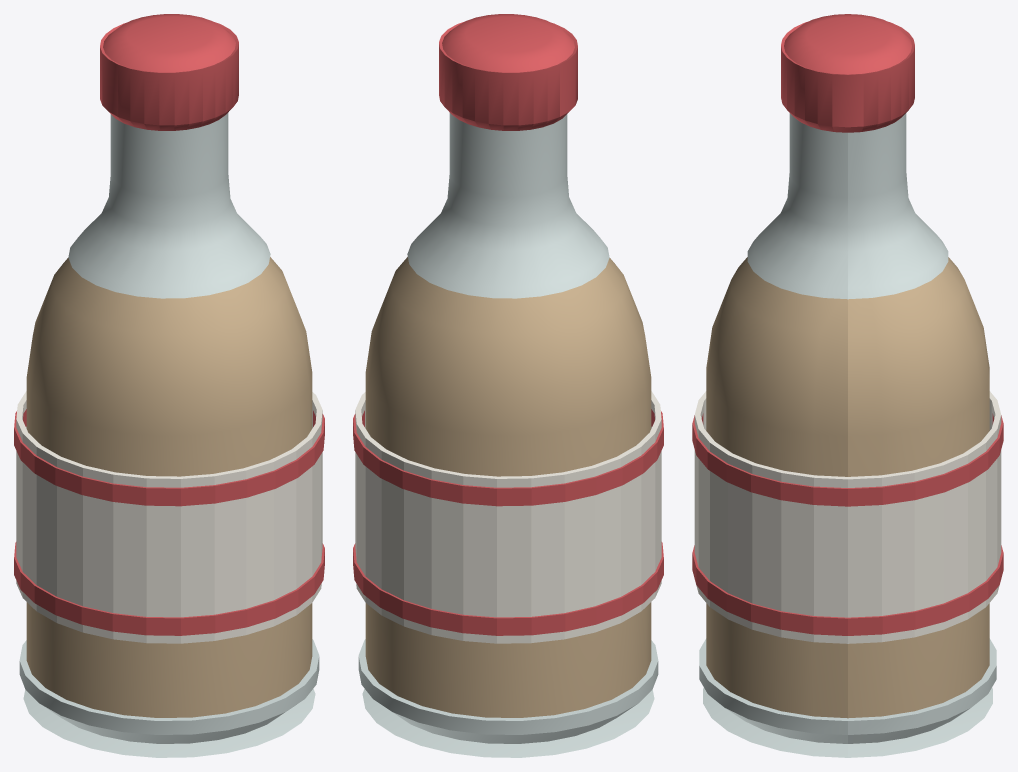
Rendered from fresh-produce-and-groceries-vinegar-bottle-5cefbeac__24440.glb.
3 views of the same model, side by side, from view 1: azimuth 30°, elevation 25°; view 2: azimuth 150°, elevation 25°; view 3: azimuth 270°, elevation 25° (orthographic).
Parts seen in each view (by area): view 1: vinegar-bottle; view 2: vinegar-bottle; view 3: vinegar-bottle.
Boxes of the visible parts, bbox=[...] form: vinegar-bottle: bbox=[14, 14, 324, 757]; vinegar-bottle: bbox=[353, 14, 663, 757]; vinegar-bottle: bbox=[692, 14, 1003, 757].
Bounding box in the file's own units: 0.0806 × 0.189 × 0.0806.
